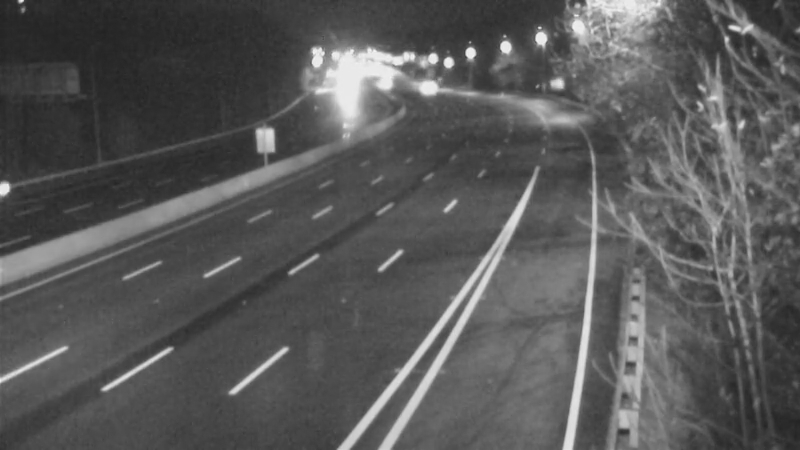vehicle: (1, 144, 64, 224), (356, 58, 406, 108), (392, 60, 442, 110)
